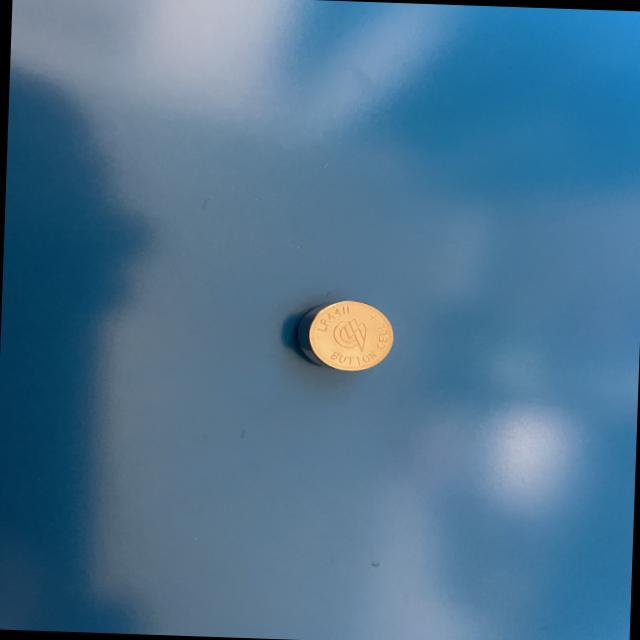COIN: (296, 298, 394, 373)
